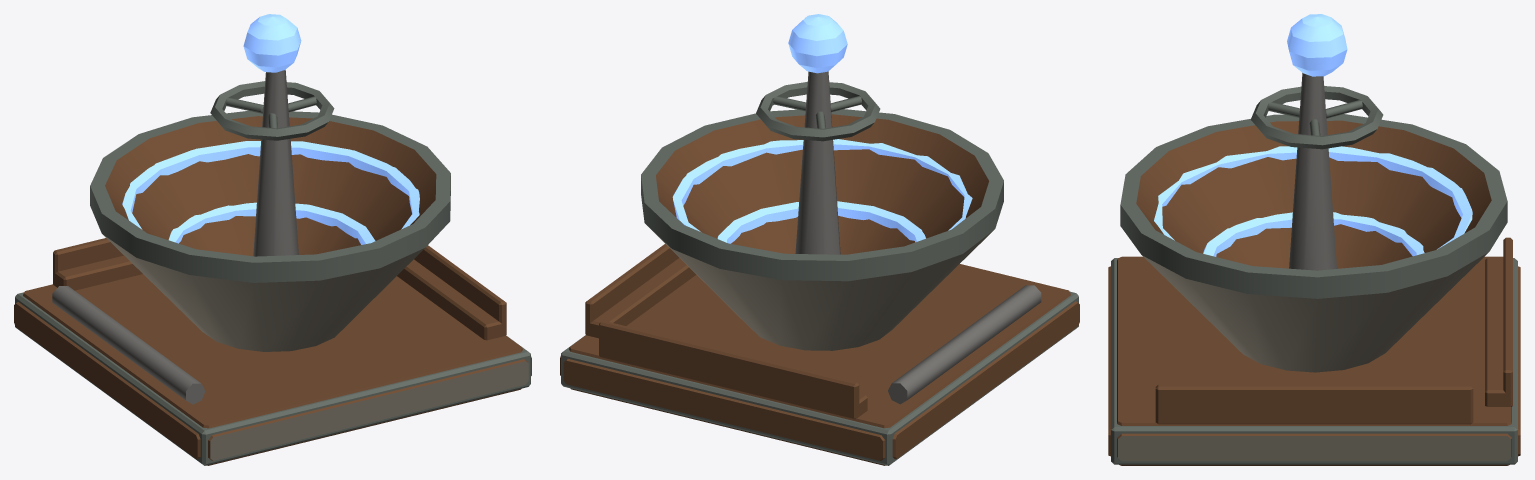
The model's file is R4X_ScannerPulse.fbx.
The picture shows the model from 3 angles, left to right: view 1: azimuth 30°, elevation 25°; view 2: azimuth 150°, elevation 25°; view 3: azimuth 270°, elevation 25°; orthographic projection. The views are drawn at different scales.
Visible parts, largest first — view 1: R4X_ScannerPulse_Body; view 2: R4X_ScannerPulse_Body; view 3: R4X_ScannerPulse_Body.
Boxes of the visible parts, x1,y1,x2,y2 form: R4X_ScannerPulse_Body: [14, 14, 531, 465]; R4X_ScannerPulse_Body: [560, 14, 1079, 465]; R4X_ScannerPulse_Body: [1108, 14, 1520, 465].
Size of the model in its own units: 0.52 by 0.51 by 0.52.
